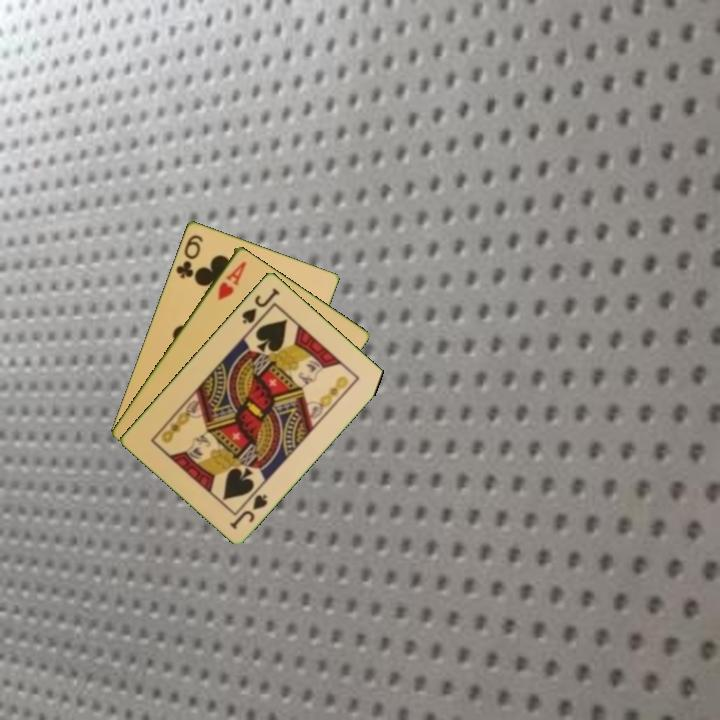6c: (172, 231, 206, 281)
Ah: (214, 257, 249, 303)
Js: (238, 284, 283, 327), (226, 490, 270, 532)
